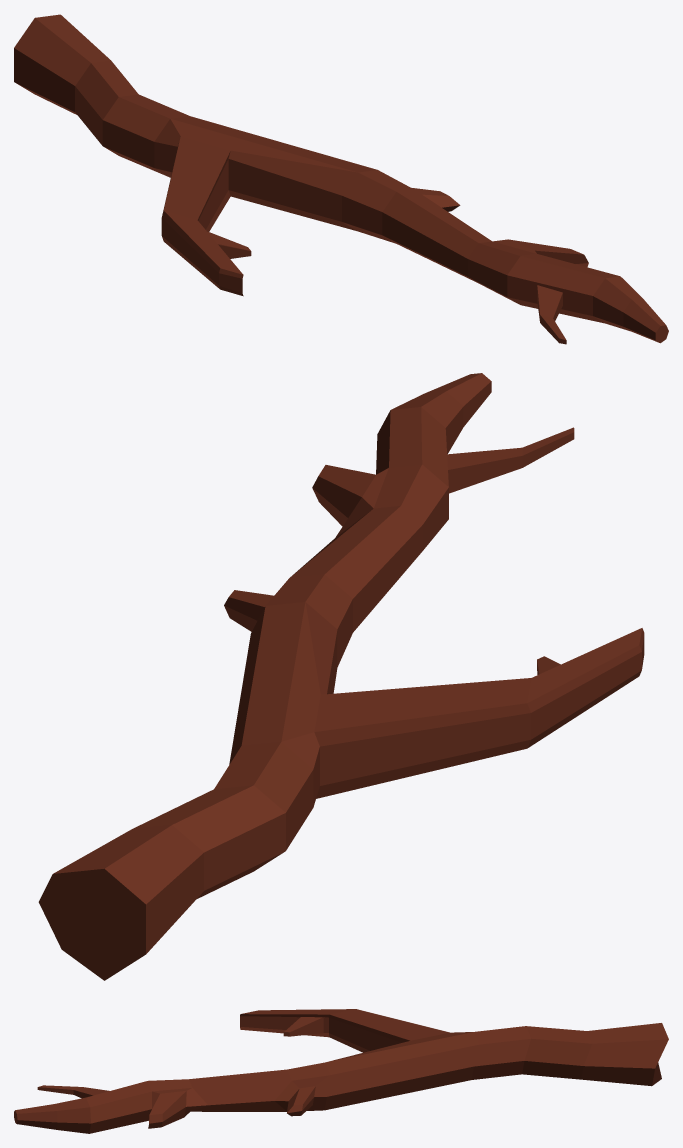
Rendered from Branch_02.fbx.
3 views of the same model, one above another, from view 1: azimuth 30°, elevation 25°; view 2: azimuth 150°, elevation 25°; view 3: azimuth 270°, elevation 25° (orthographic). The views are drawn at different scales.
Visible parts, largest first — view 1: Branch_02; view 2: Branch_02; view 3: Branch_02.
Part boxes in pixels (x1,y1,x2,y2): Branch_02: (14,14,668,344); Branch_02: (38,373,644,980); Branch_02: (14,1009,668,1133).
Bounding box in the file's own units: 149 × 36.99 × 391.
